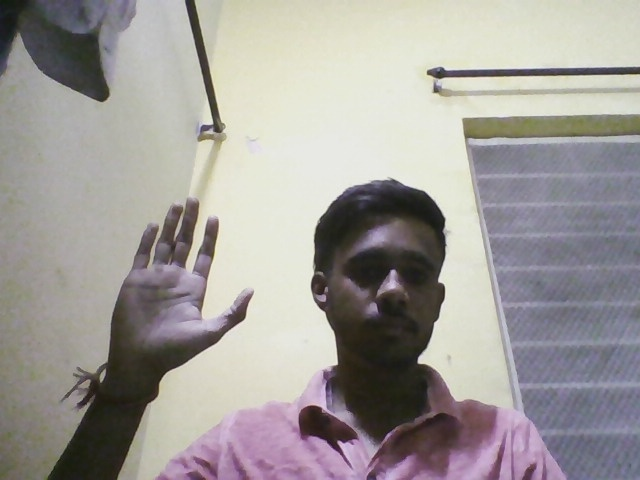hello: (105, 192, 267, 381)
